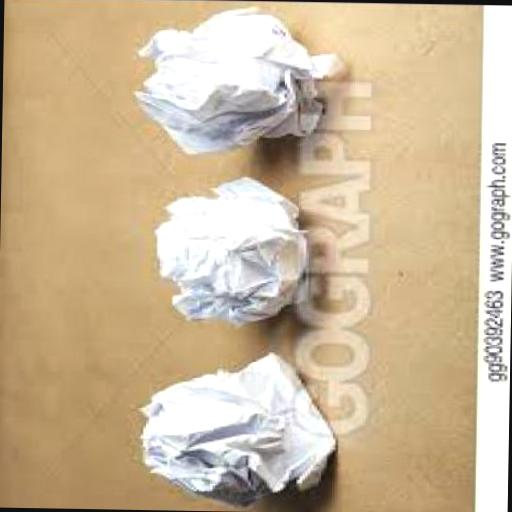paper: (134, 349, 336, 512), (128, 5, 340, 159), (148, 175, 310, 329)
